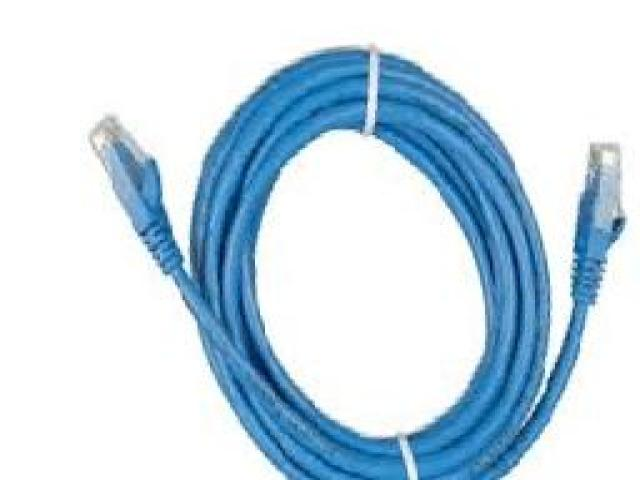wire: (90, 49, 624, 480)
